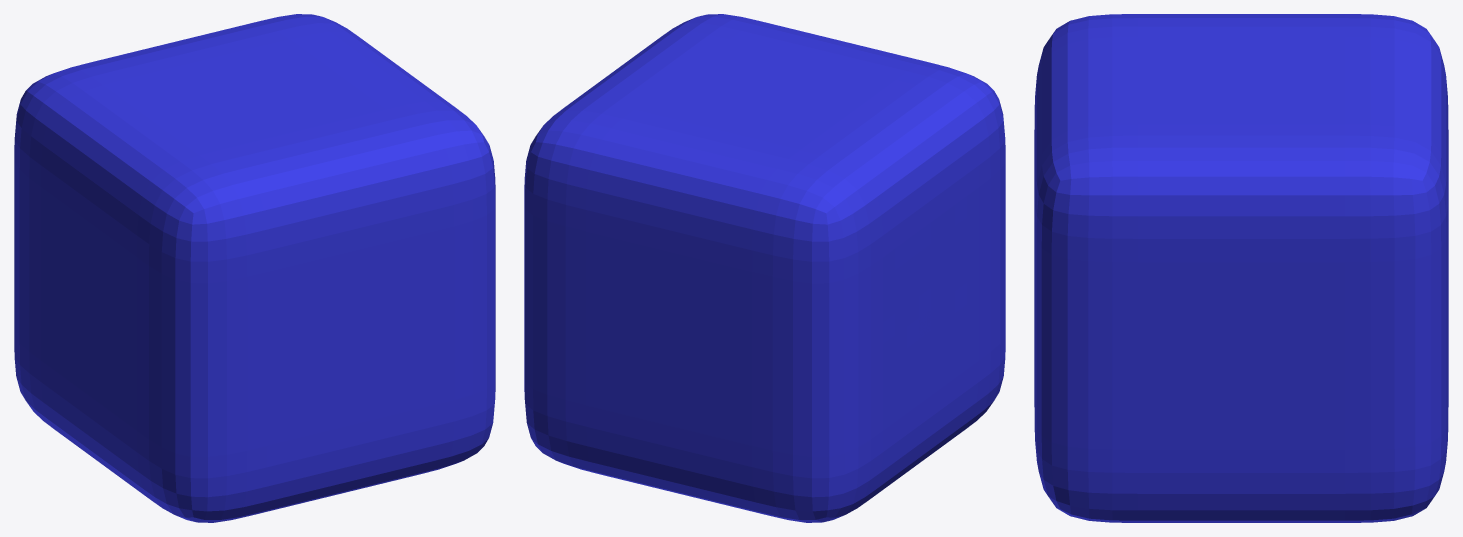
File: cube_blue.fbx
3 views of the same model, side by side, from view 1: azimuth 30°, elevation 25°; view 2: azimuth 150°, elevation 25°; view 3: azimuth 270°, elevation 25° (orthographic). The views are drawn at different scales.
Parts seen in each view (by area): view 1: Cube; view 2: Cube; view 3: Cube.
Part boxes in pixels (x1,y1,x2,y2): Cube: [14, 14, 495, 522]; Cube: [524, 14, 1005, 522]; Cube: [1034, 14, 1448, 522].
Bounding box in the file's own units: 200 × 200 × 200.
